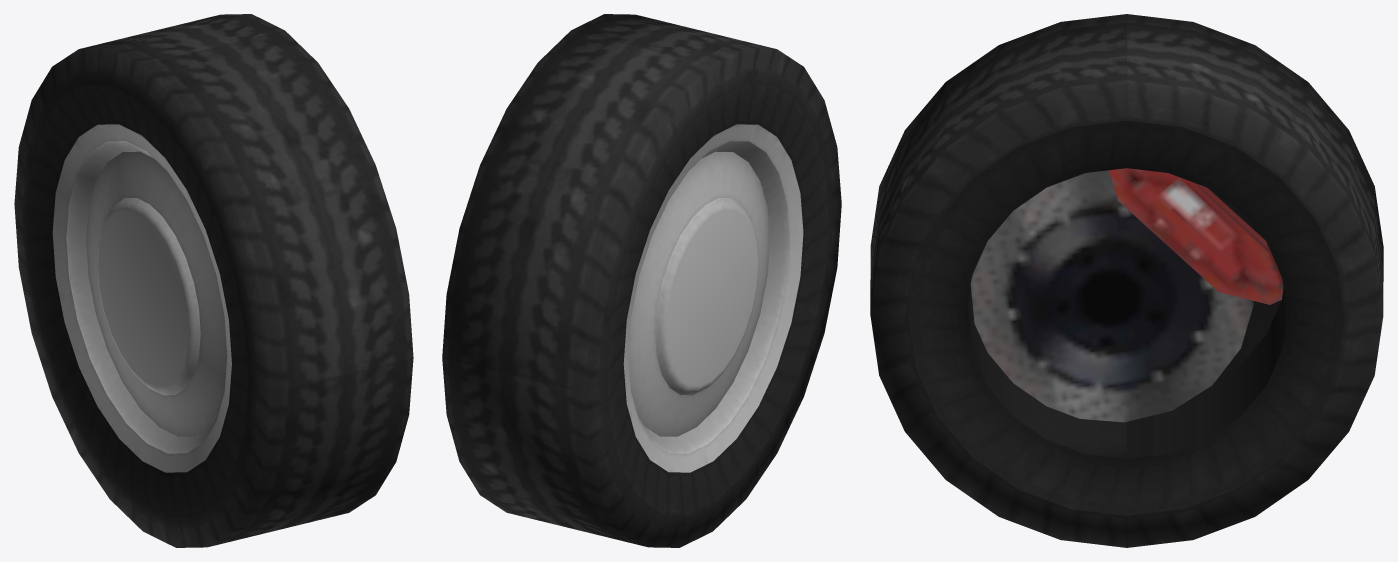
The model's file is Wheel0.fbx.
3 views of the same model, side by side, from view 1: azimuth 30°, elevation 25°; view 2: azimuth 150°, elevation 25°; view 3: azimuth 270°, elevation 25° (orthographic).
Parts seen in each view (by area): view 1: Tire, Metal; view 2: Tire, Metal; view 3: Tire, Disc, Metal.
Part boxes in pixels (<box>): Tire: <box>14,14,413,547</box>; Metal: <box>52,124,231,472</box>; Tire: <box>442,14,841,547</box>; Metal: <box>623,124,803,472</box>; Tire: <box>870,14,1383,547</box>; Disc: <box>970,168,1283,422</box>; Metal: <box>970,189,1283,382</box>.
Size of the model in its own units: 24.28 by 70.65 by 70.66.
